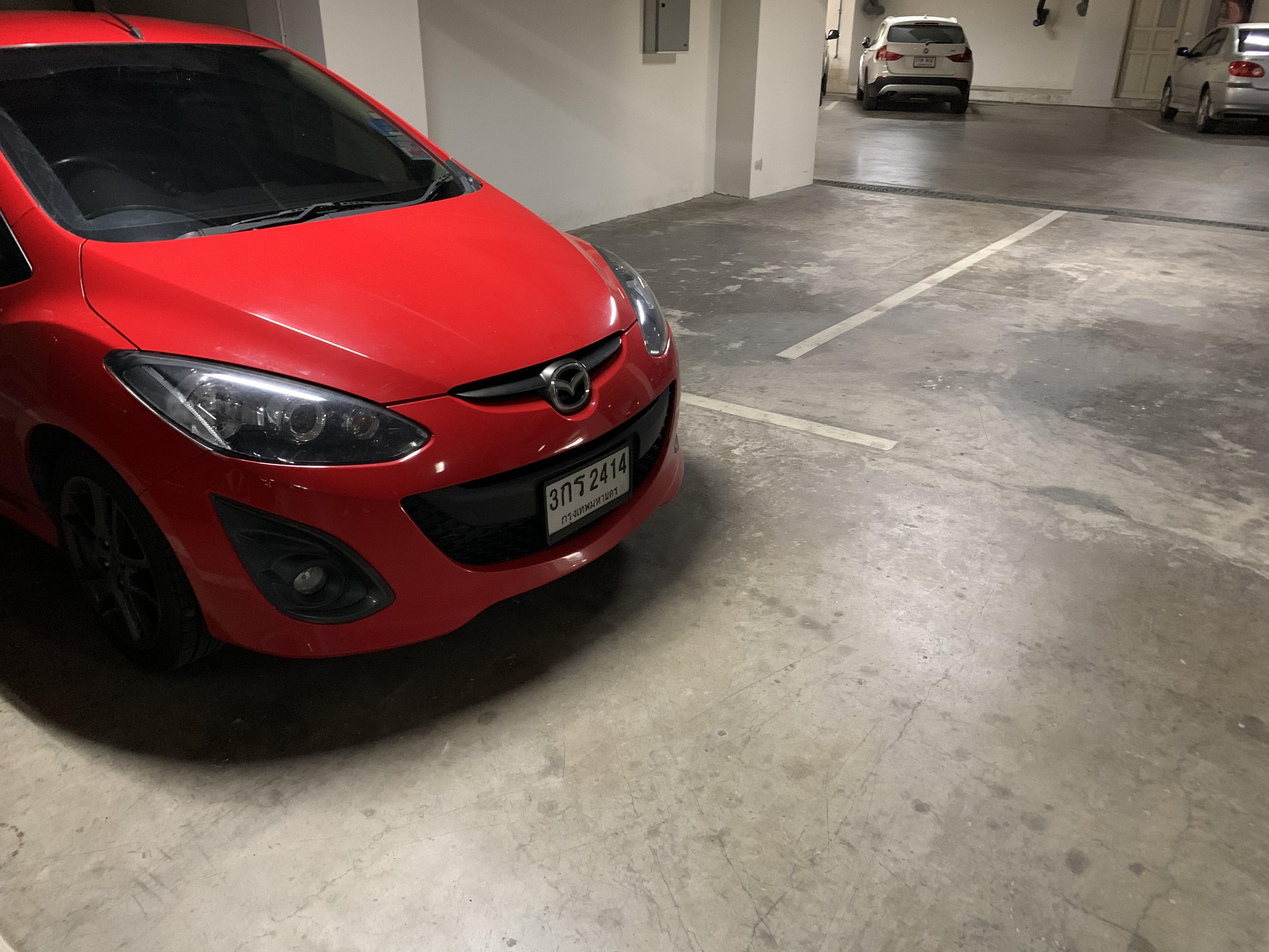license-plate: (539, 439, 639, 545)
